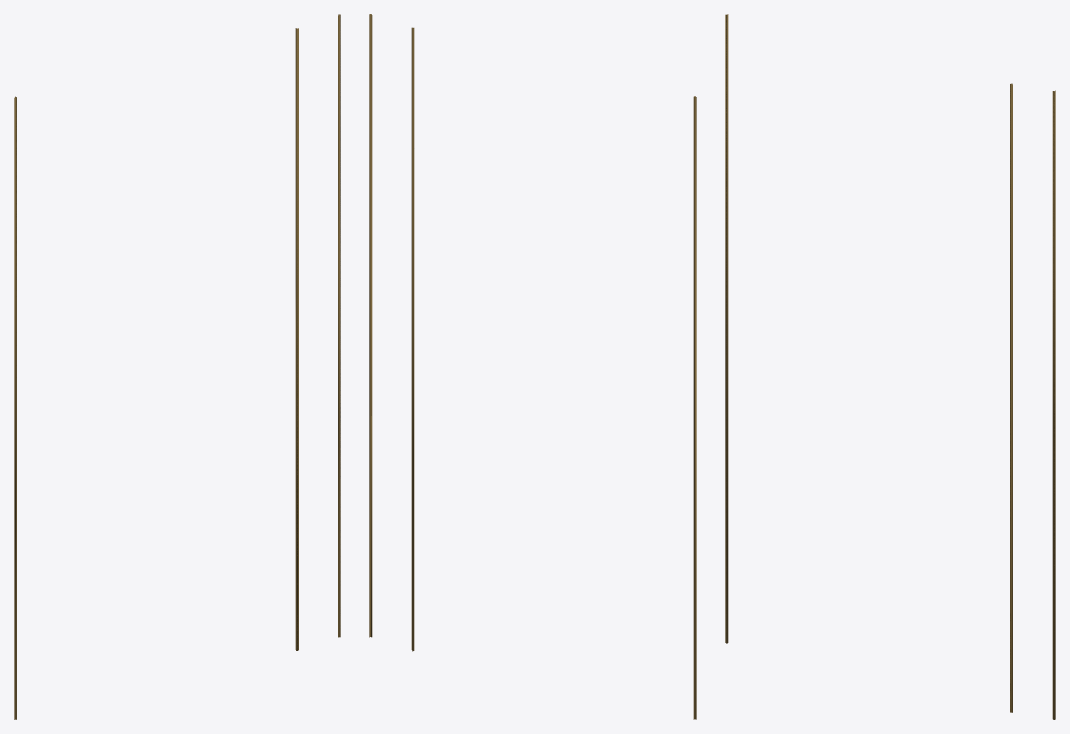
The model's file is PROFILES_compressed.glb.
The picture shows the model from 3 angles, left to right: view 1: azimuth 30°, elevation 25°; view 2: azimuth 150°, elevation 25°; view 3: azimuth 330°, elevation 25°; orthographic projection.
Parts seen in each view (by area): view 1: shower_profile_FIXED.001, shower_profile_FIXED.002, shower_profile_FIXED.004; view 2: shower_profile_FIXED.004, shower_profile_FIXED.001, shower_profile_FIXED.002; view 3: shower_profile_FIXED.004, shower_profile_FIXED.002, shower_profile_FIXED.001.
Boxes of the visible parts, x1,y1,x2,y2 form: shower_profile_FIXED.001: (295,28,298,650); shower_profile_FIXED.002: (338,14,340,637); shower_profile_FIXED.004: (14,96,16,719); shower_profile_FIXED.004: (693,96,696,719); shower_profile_FIXED.001: (411,27,414,651); shower_profile_FIXED.002: (369,14,372,637); shower_profile_FIXED.004: (725,14,728,643); shower_profile_FIXED.002: (1052,90,1055,719); shower_profile_FIXED.001: (1010,83,1012,712).
Bounding box in the file's own units: 1.4 × 2.56 × 0.0124.
